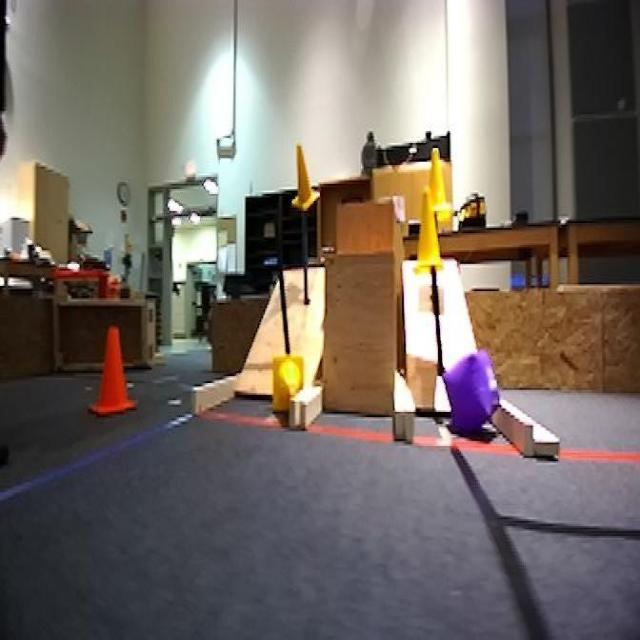frc_cone: (411, 189, 445, 272), (423, 150, 453, 223), (271, 352, 305, 416), (291, 143, 320, 213)
frc_cube: (443, 346, 501, 434)
